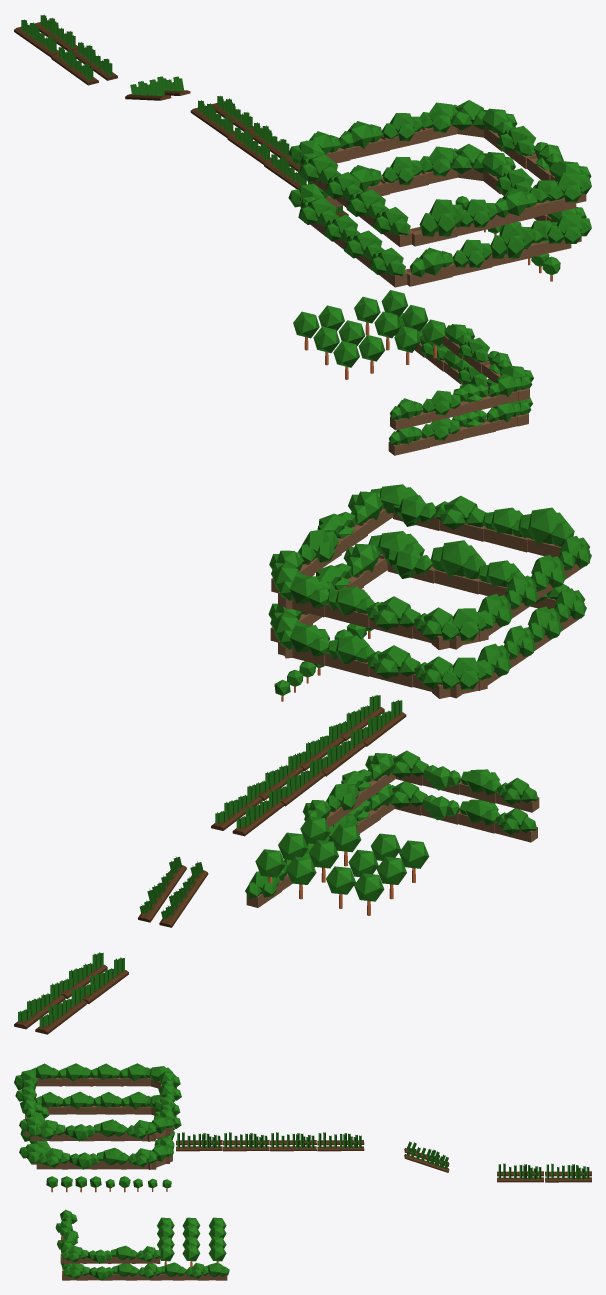
The model's file is solution_21_green_cover.fbx.
3 renders of one model, top to bottom at view 1: azimuth 30°, elevation 25°; view 2: azimuth 150°, elevation 25°; view 3: azimuth 270°, elevation 25°, orthographic. The views are drawn at different scales.
Parts seen in each view (by area): view 1: solution_21_green_cover; view 2: solution_21_green_cover; view 3: solution_21_green_cover.
Part boxes in pixels (x1,y1,x2,y2): solution_21_green_cover: (14,14,591,455); solution_21_green_cover: (14,484,591,1034); solution_21_green_cover: (14,1063,591,1280).
Size of the model in its own units: 2808 by 3332 by 10020.
